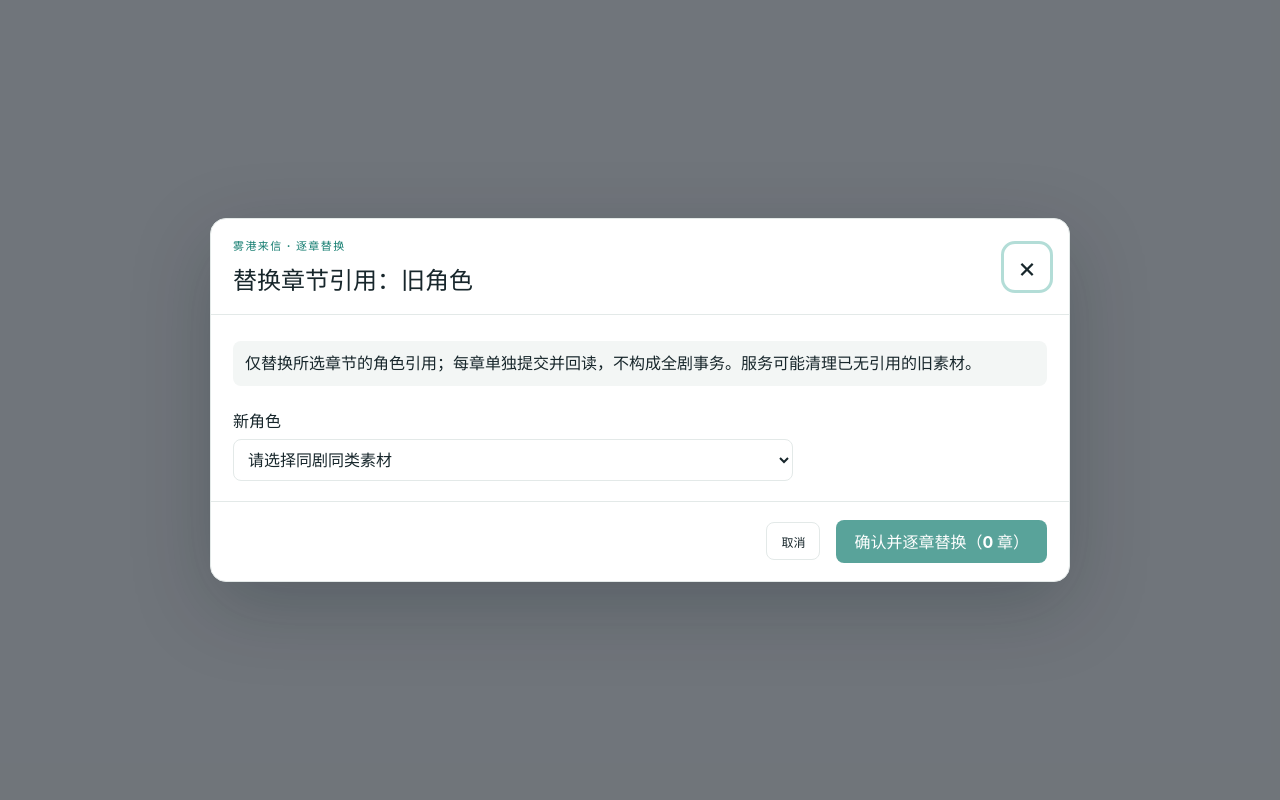
asset replacement dialog › does not send when the chapter changes after preview
This screenshot has width=1280, height=800.
Select "新角色（new-id）" in the dropdown labelled "新角色" at (513,460), box [233,439,793,481]
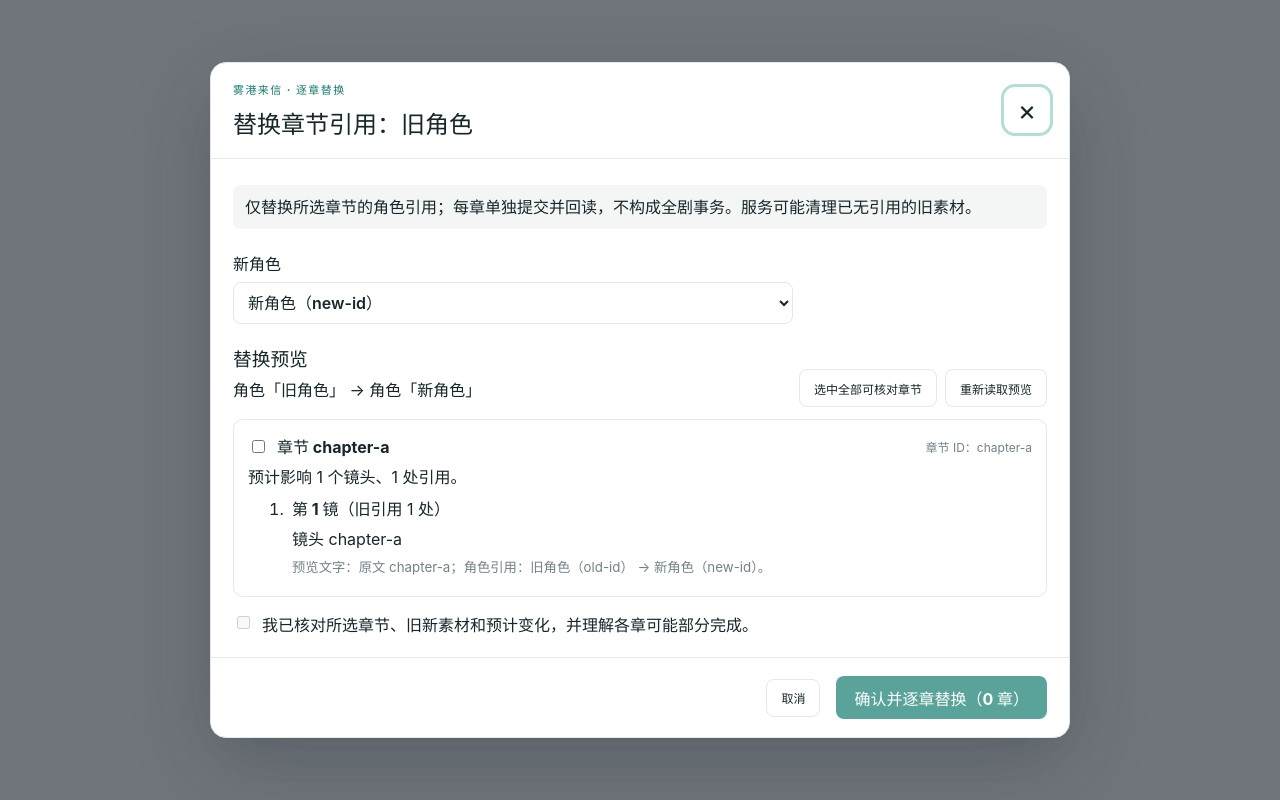
Expected: the element named "逐章替换预览" is shown, [233,340,1047,597]
Click the checkbox named "选择章节 ".
click(258, 446)  # box [252,440,265,453]
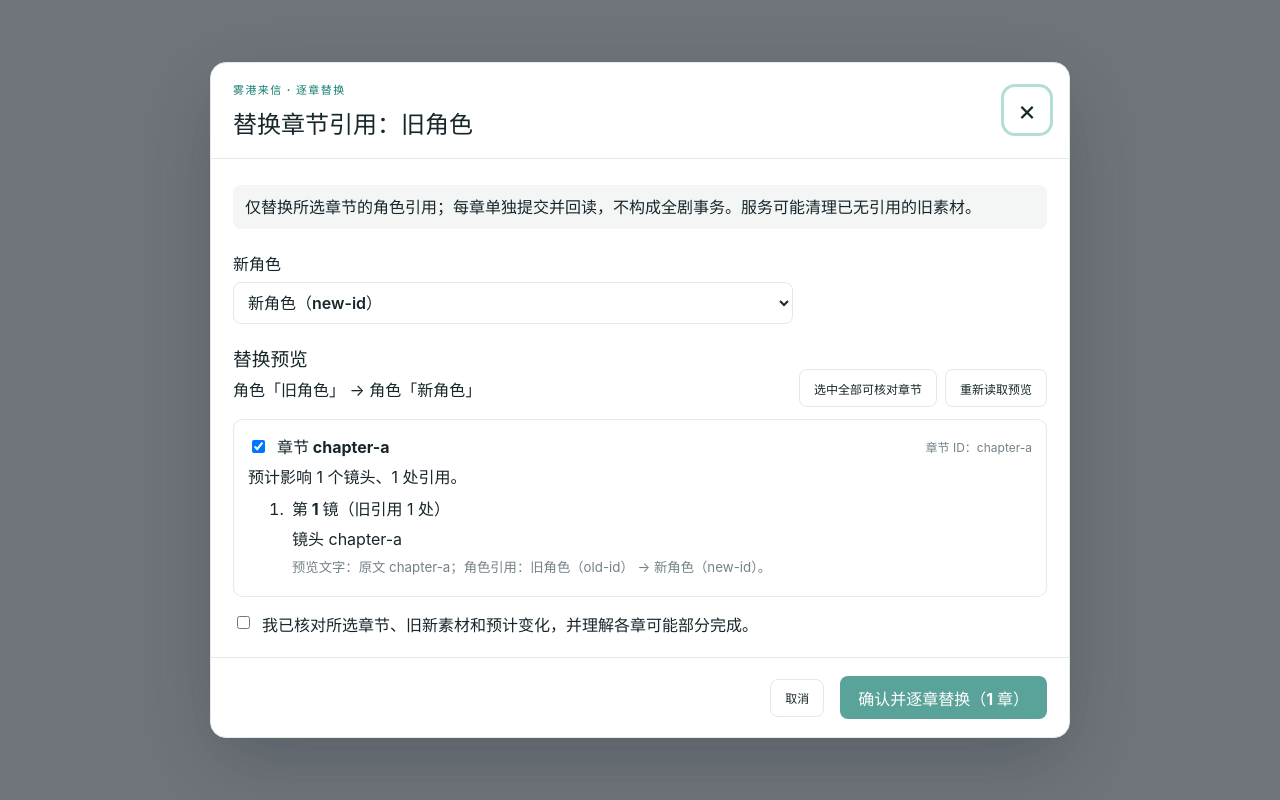
Click the checkbox labelled "我已核对所选章节、旧新素材和预计变化，并理解各章可能部分完成。".
click(244, 623)  # box [237,616,250,629]
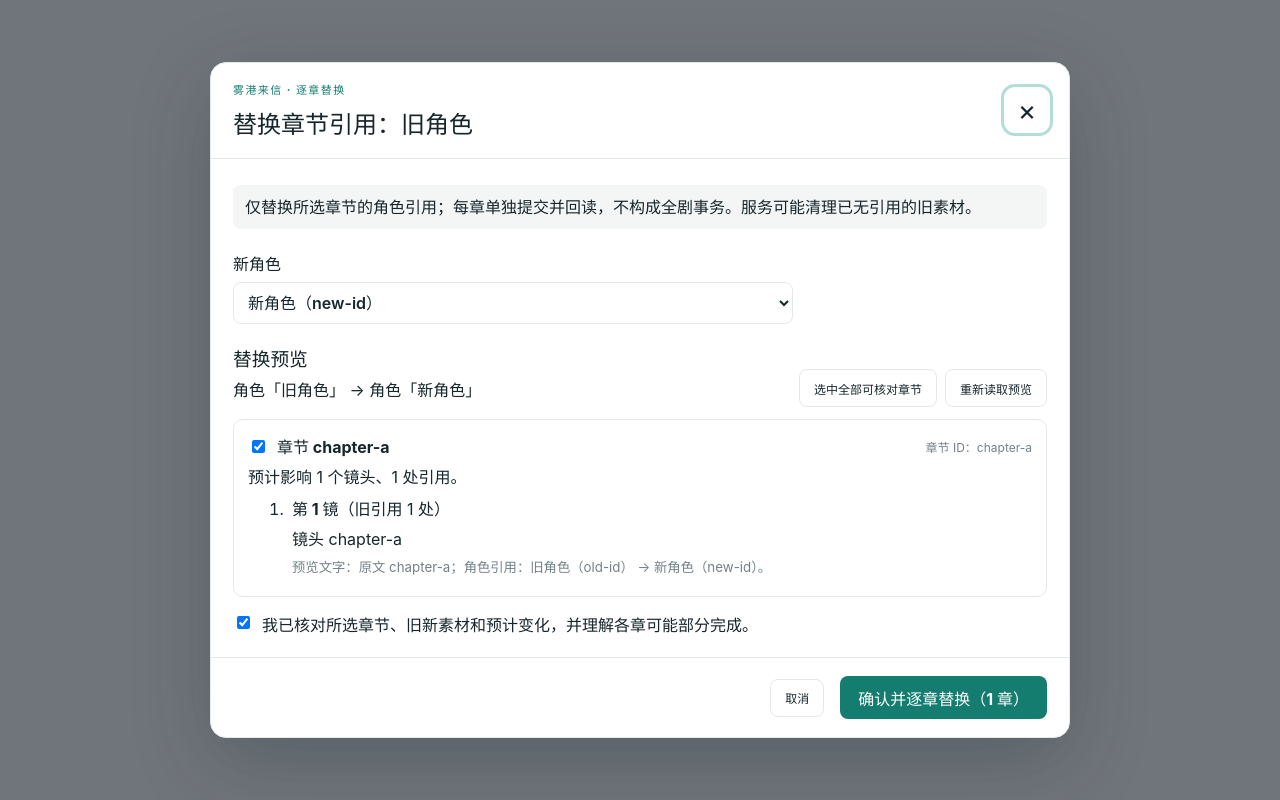
Click the button "确认并逐章替换（1 章）".
click(944, 698)  # box [840,676,1047,719]
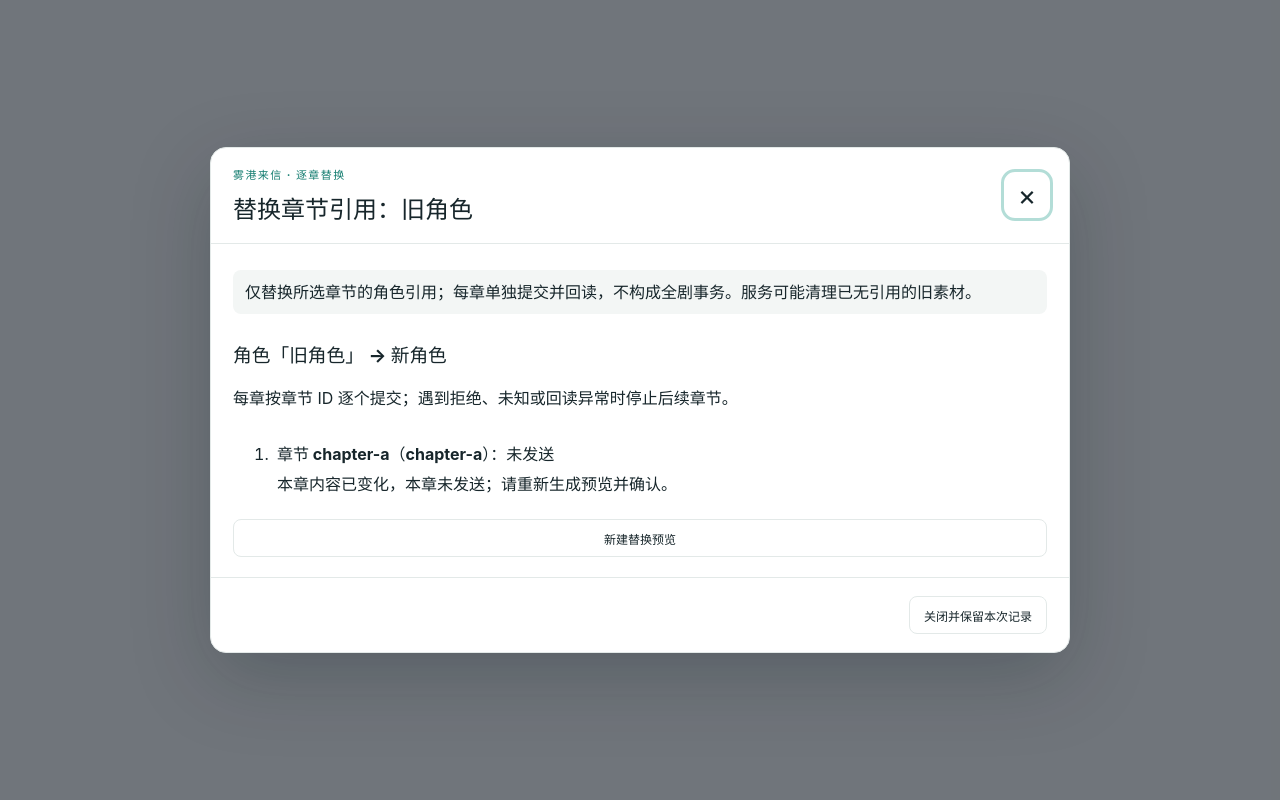
Expected: the text "本章内容已变化，本章未发送；请重新生成预览并确认。" is shown, [277,474,677,494]
